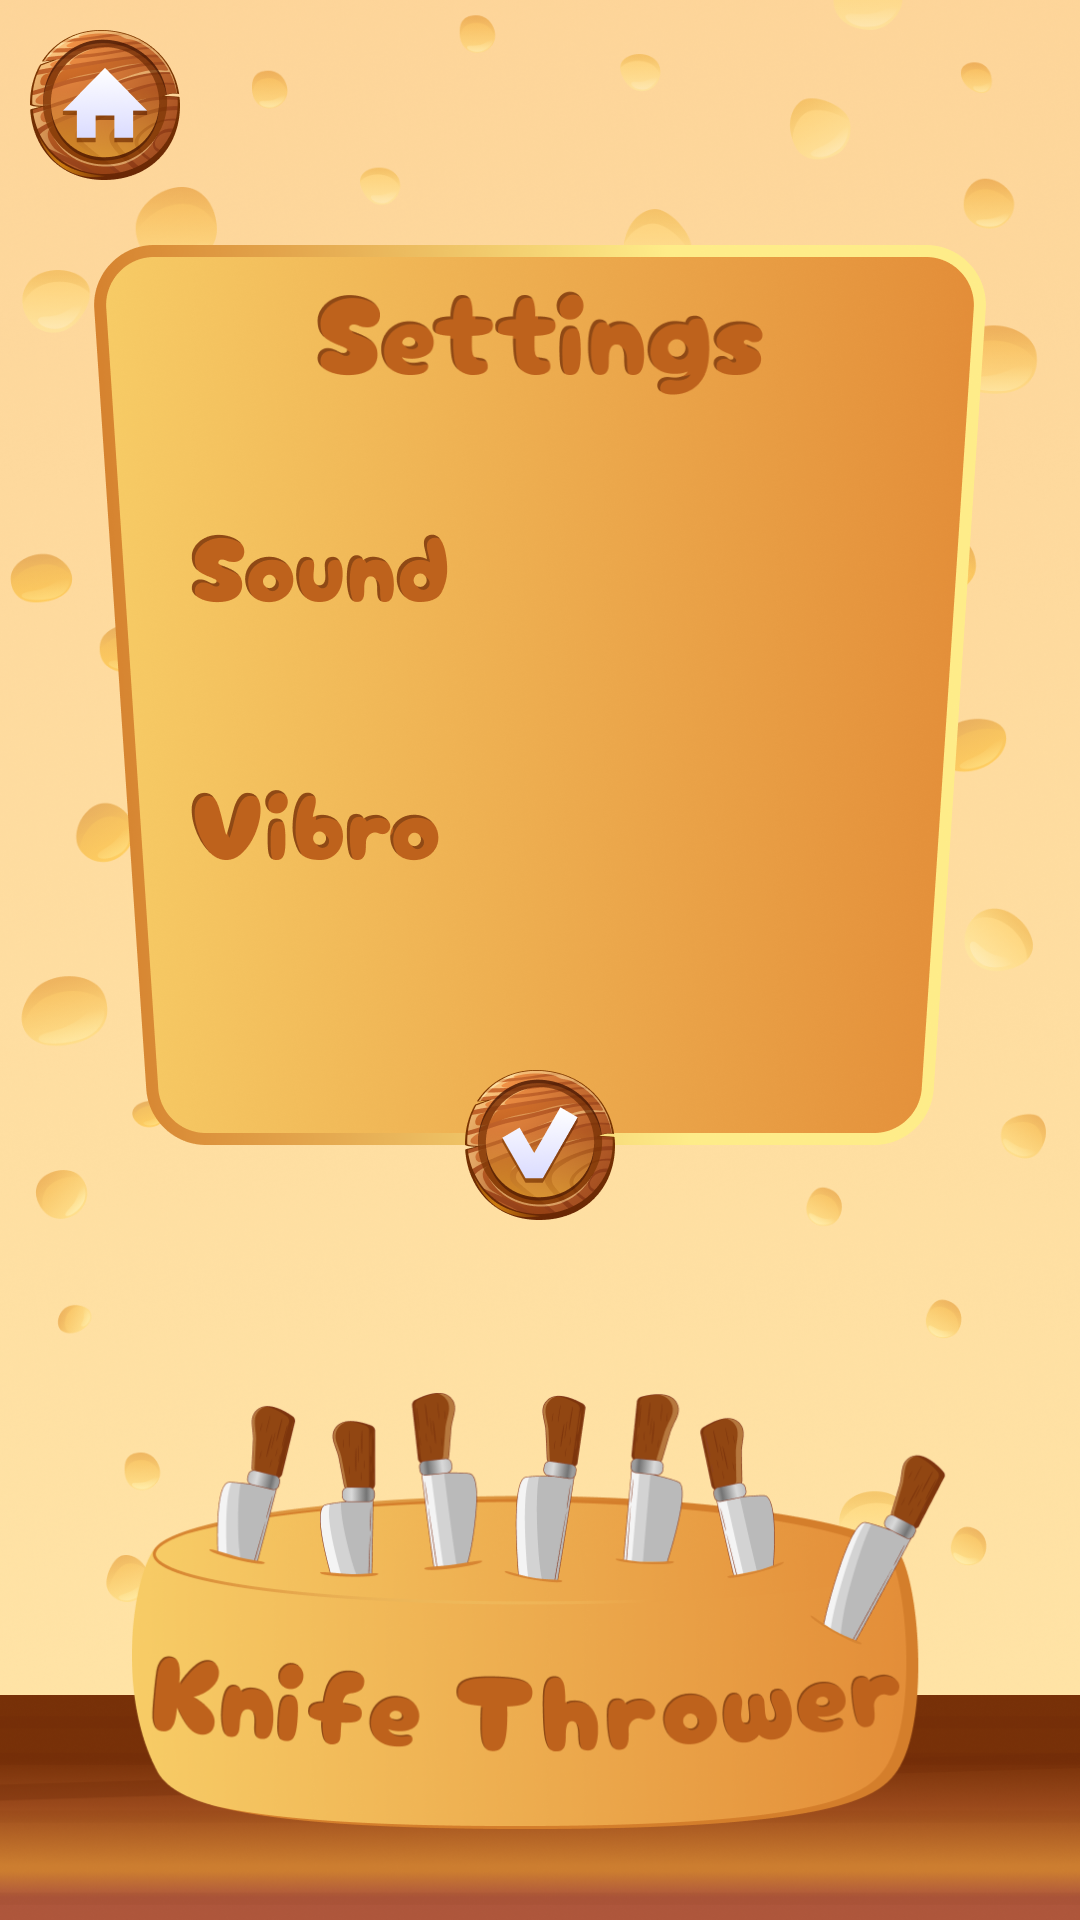

Locate icon controls on the screen. Image size 1080w x 1920h, boxes as (x1, y1, x2, y2).
home sel: (30, 30, 180, 180)
